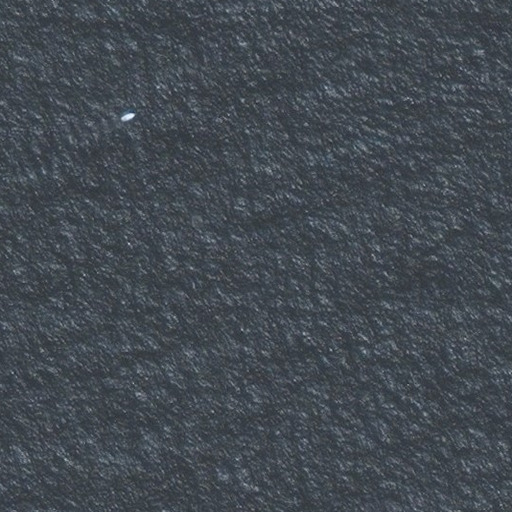ship: (115, 111, 139, 125)
